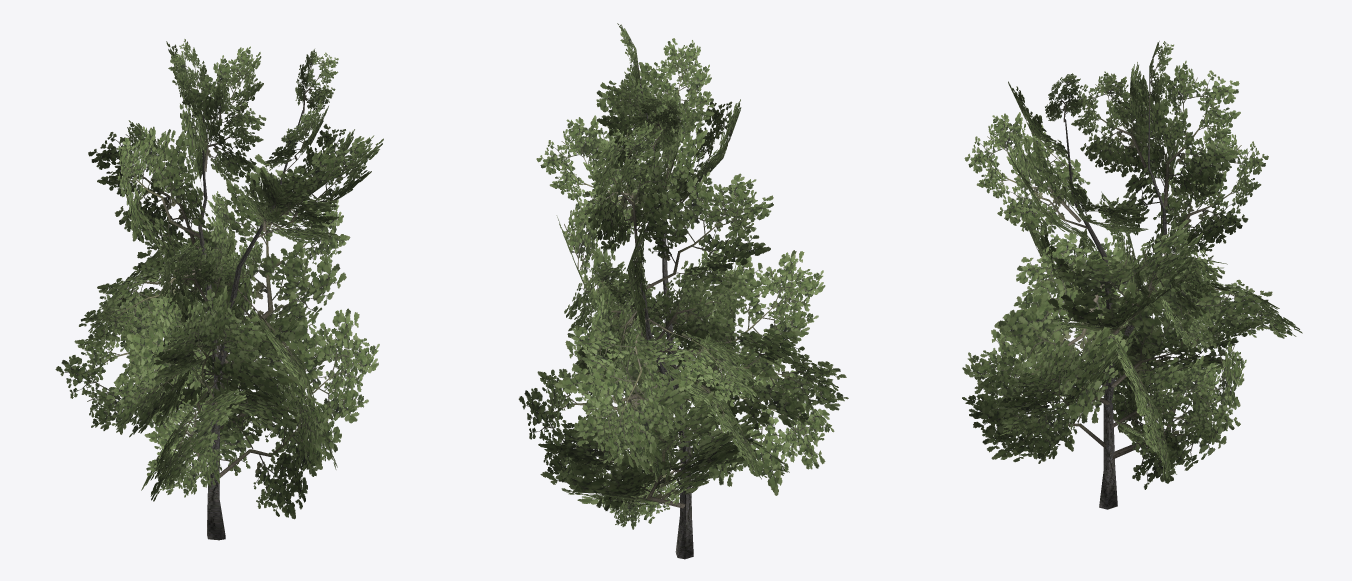
The model's file is tree14.fbx.
The picture shows the model from 3 angles, left to right: view 1: azimuth 30°, elevation 25°; view 2: azimuth 150°, elevation 25°; view 3: azimuth 270°, elevation 25°; orthographic projection. The views are drawn at different scales.
Visible parts, largest first — view 1: Tree-02-4; view 2: Tree-02-4; view 3: Tree-02-4.
Boxes of the visible parts, x1,y1,x2,y2 form: Tree-02-4: (55, 39, 383, 540); Tree-02-4: (518, 23, 848, 559); Tree-02-4: (962, 41, 1302, 509).
Bounding box in the file's own units: 384 × 549 × 440.
